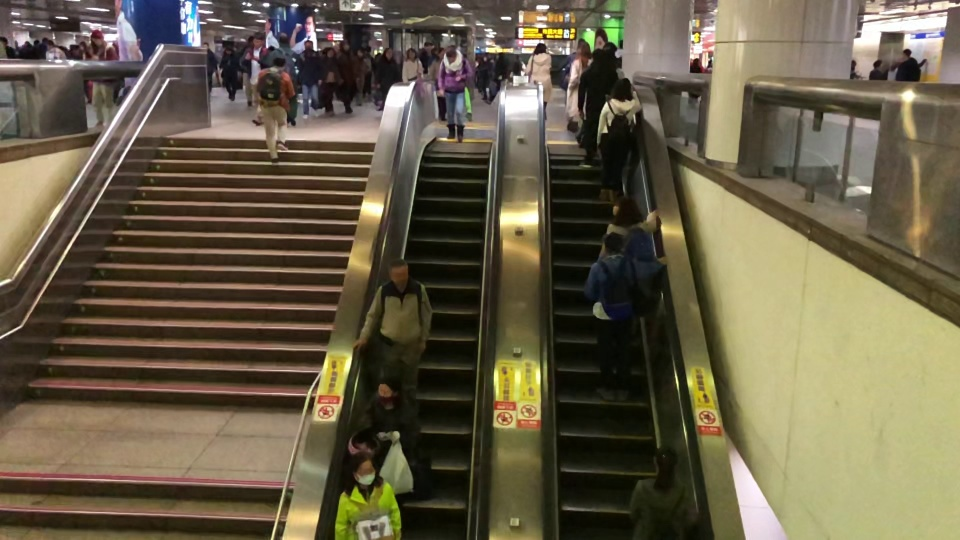person_head: (350, 449, 379, 487), (376, 373, 401, 410), (654, 444, 679, 478), (611, 194, 637, 223), (387, 256, 409, 289), (601, 230, 625, 260), (611, 77, 631, 101), (590, 47, 607, 66), (576, 39, 591, 59), (90, 28, 105, 47), (444, 44, 457, 63), (271, 54, 287, 69), (253, 31, 265, 49), (533, 41, 548, 55), (433, 47, 446, 60), (277, 33, 289, 47), (871, 58, 883, 70), (405, 47, 416, 60), (383, 45, 393, 59), (423, 39, 434, 51), (901, 48, 912, 60), (325, 46, 335, 59), (304, 39, 314, 51), (340, 39, 350, 51), (223, 45, 233, 55)
person_vbox: (582, 229, 668, 401), (349, 255, 433, 431), (354, 375, 432, 508), (628, 445, 699, 540), (333, 451, 400, 540), (596, 78, 641, 201), (577, 48, 620, 169), (254, 54, 296, 164), (597, 197, 663, 259), (259, 32, 301, 127), (436, 44, 473, 142), (87, 29, 120, 127), (240, 33, 272, 125), (557, 41, 585, 130), (567, 43, 593, 135), (522, 42, 552, 119), (295, 39, 321, 119), (336, 39, 362, 113), (319, 47, 344, 117), (428, 45, 448, 122), (375, 47, 402, 102), (218, 47, 239, 101), (896, 47, 927, 81), (402, 49, 424, 82), (418, 42, 436, 74), (867, 59, 889, 81)
